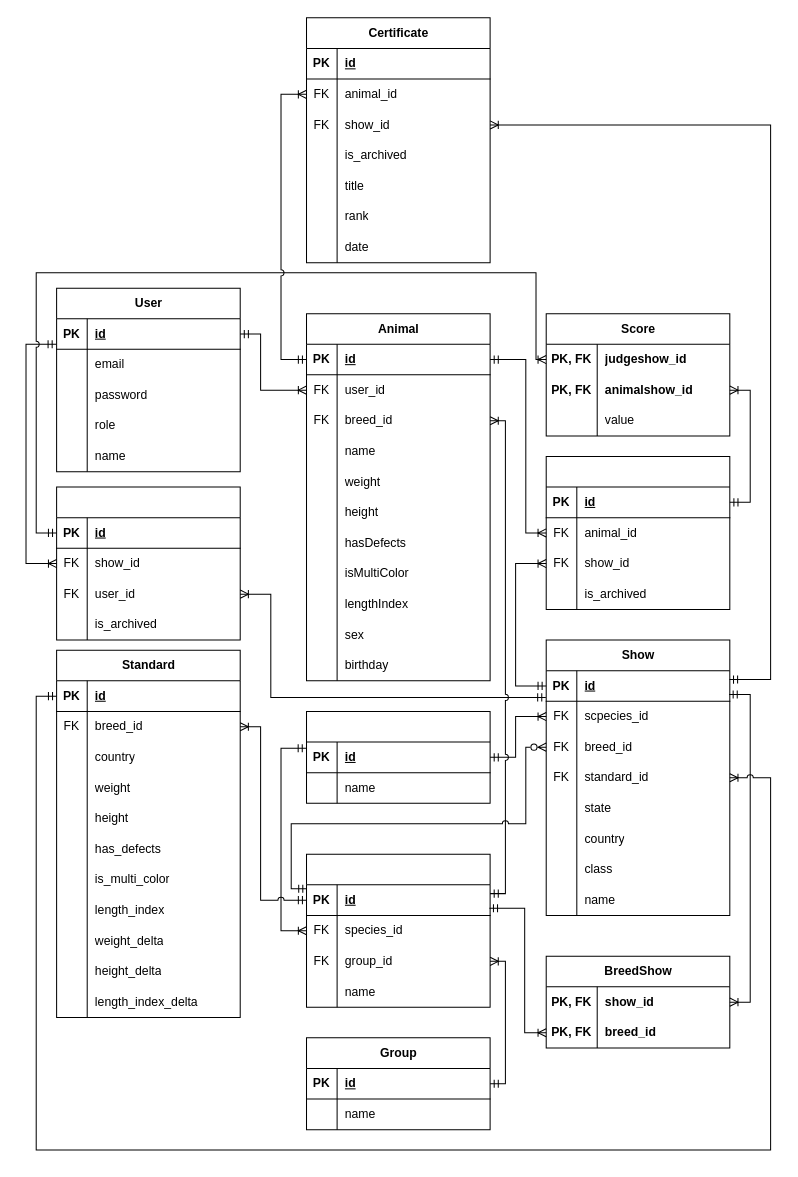
The diagram is 798 pixels wide and 1177 high, and some of its shapes have lost their labels. The box of each missing label's shape, as (x1, y1, x2, y2) in pixels:
AnimalShow: (545, 455, 730, 609)
Breed: (305, 853, 490, 1007)
JudgeShow: (56, 486, 240, 640)
Species: (305, 710, 490, 803)
